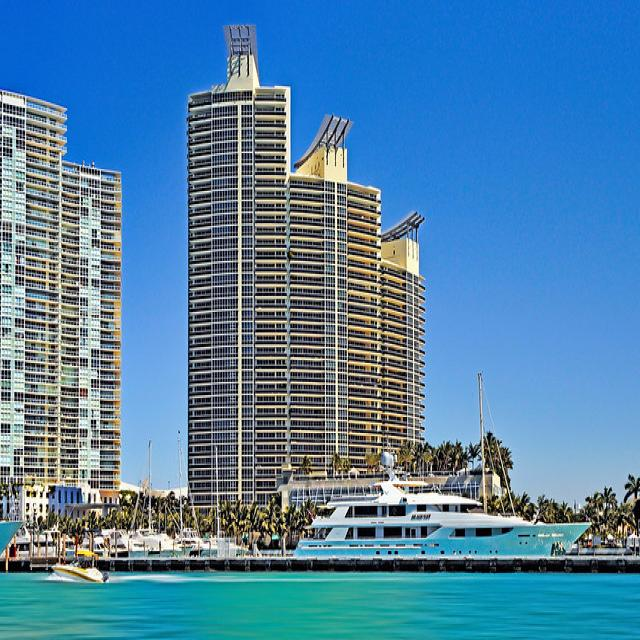Normal_building: (182, 80, 294, 516), (284, 171, 384, 495), (54, 150, 126, 512)
